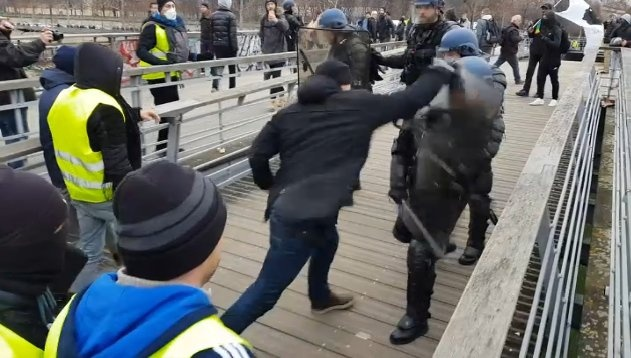helmet: (438, 27, 485, 58), (310, 9, 347, 29), (283, 1, 297, 11)
person with partial safety: (401, 39, 492, 334), (56, 49, 129, 280), (139, 3, 205, 160), (255, 4, 296, 102)
person without safety: (49, 169, 244, 358), (244, 66, 384, 322), (399, 1, 449, 74), (530, 9, 565, 109), (208, 4, 247, 87), (495, 16, 525, 83)
safety vest: (46, 88, 130, 201), (140, 20, 190, 83)
